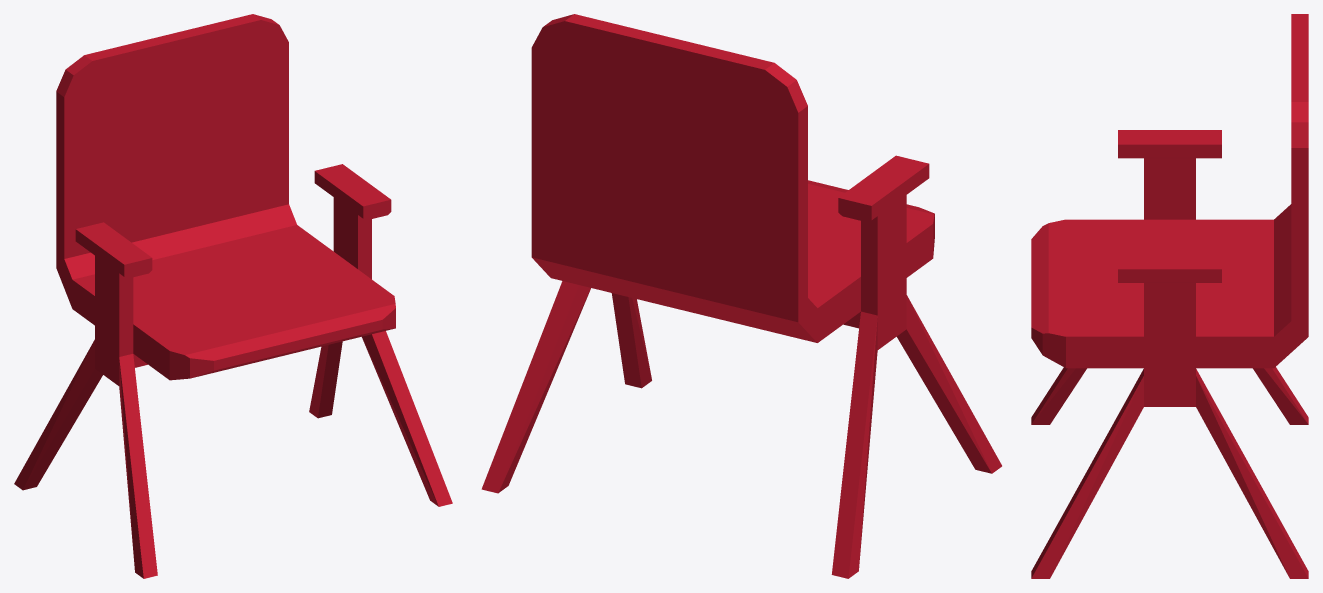
Rendered from prop_chair_02.obj.
The picture shows the model from 3 angles, left to right: view 1: azimuth 30°, elevation 25°; view 2: azimuth 150°, elevation 25°; view 3: azimuth 270°, elevation 25°; orthographic projection. The views are drawn at different scales.
Visible parts, largest first — view 1: entity1_brush8, entity1_brush9, entity1_brush11, entity1_brush2, entity1_brush7, entity1_brush6, entity1_brush0, entity1_brush1, entity1_brush10, entity1_brush12, entity1_brush4, entity1_brush5; view 2: entity1_brush8, entity1_brush9, entity1_brush1, entity1_brush5, entity1_brush0, entity1_brush7, entity1_brush2, entity1_brush12, entity1_brush11, entity1_brush6; view 3: entity1_brush9, entity1_brush11, entity1_brush4, entity1_brush8, entity1_brush5, entity1_brush6, entity1_brush0, entity1_brush10, entity1_brush12, entity1_brush7, entity1_brush1, entity1_brush2.
Boxes of the visible parts, x1,y1,x2,y2 form: entity1_brush8: (56, 14, 288, 258); entity1_brush9: (56, 225, 377, 368); entity1_brush11: (153, 284, 395, 380); entity1_brush2: (119, 354, 157, 578); entity1_brush7: (56, 204, 296, 279); entity1_brush6: (362, 331, 452, 506); entity1_brush0: (95, 256, 133, 385); entity1_brush1: (14, 339, 102, 490); entity1_brush10: (314, 164, 391, 220); entity1_brush12: (75, 222, 152, 278); entity1_brush4: (333, 197, 371, 279); entity1_brush5: (309, 341, 342, 418); entity1_brush8: (531, 14, 807, 304); entity1_brush9: (532, 212, 913, 342); entity1_brush1: (831, 311, 877, 578); entity1_brush5: (481, 281, 590, 493); entity1_brush0: (861, 195, 906, 349); entity1_brush7: (531, 240, 817, 322); entity1_brush2: (896, 295, 1001, 473); entity1_brush12: (838, 155, 929, 222); entity1_brush11: (808, 180, 934, 272); entity1_brush6: (611, 293, 651, 388); entity1_brush9: (1100, 219, 1308, 368); entity1_brush11: (1031, 219, 1100, 368); entity1_brush4: (1144, 283, 1195, 406); entity1_brush8: (1291, 14, 1308, 320); entity1_brush5: (1196, 369, 1308, 578); entity1_brush6: (1031, 369, 1143, 578); entity1_brush0: (1144, 158, 1195, 219); entity1_brush10: (1118, 254, 1221, 282); entity1_brush12: (1118, 130, 1221, 158); entity1_brush7: (1274, 204, 1308, 336); entity1_brush1: (1253, 367, 1308, 424); entity1_brush2: (1031, 367, 1086, 424).
Size of the model in its own units: 44 by 56 by 32.
